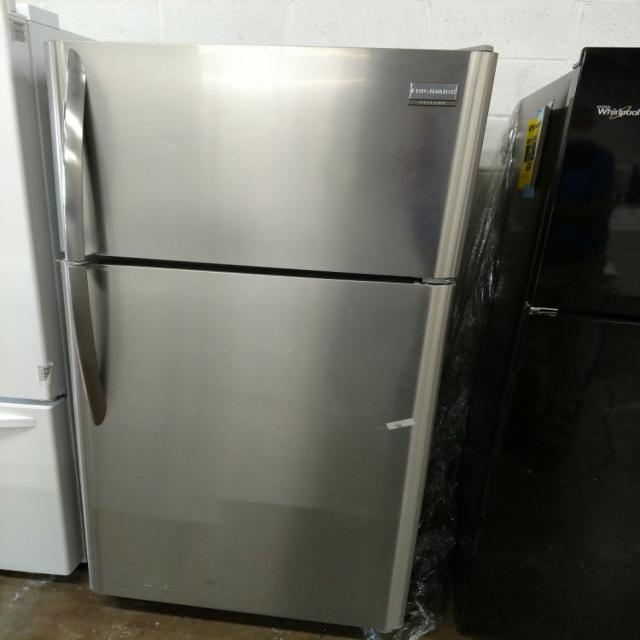refrigerator: (44, 40, 497, 640)
